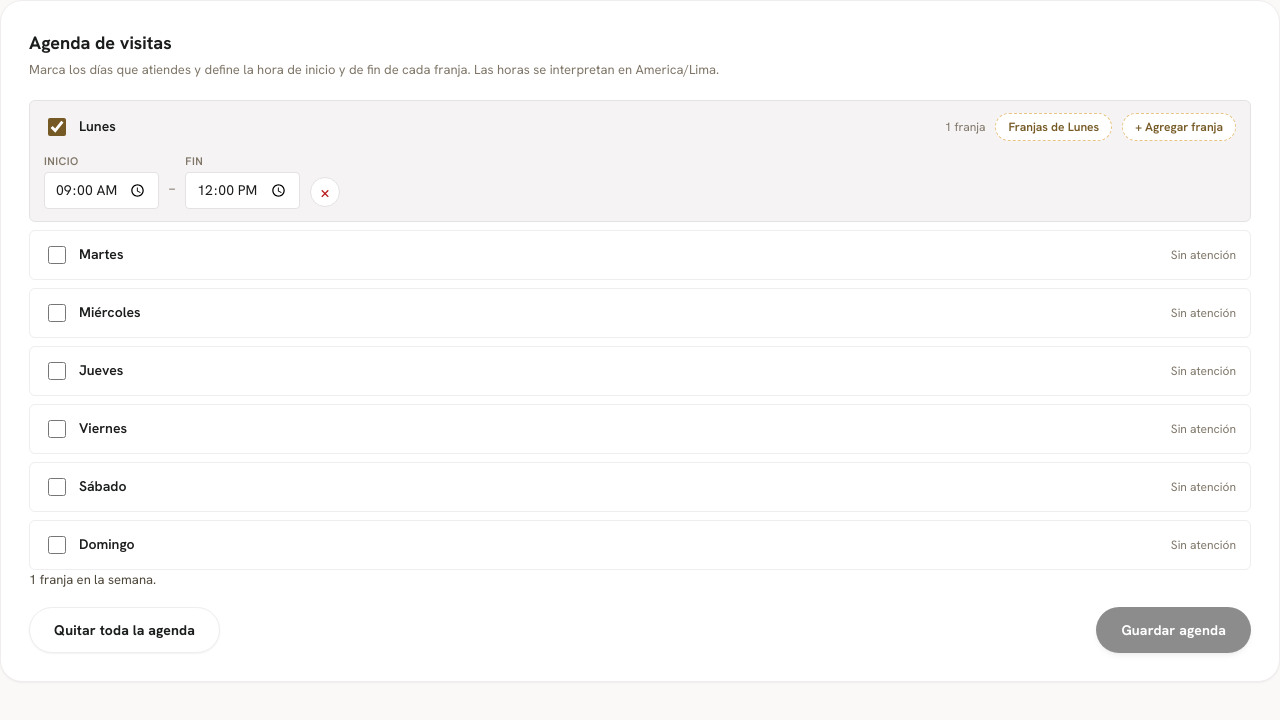
Test: ScheduleManager › Envío de la agenda › permite vaciar la semana completa enviando solo `days: []`
The image size is (1280, 720).
Click the button "Quitar toda la agenda" at [125, 630], box [29,607,220,653]
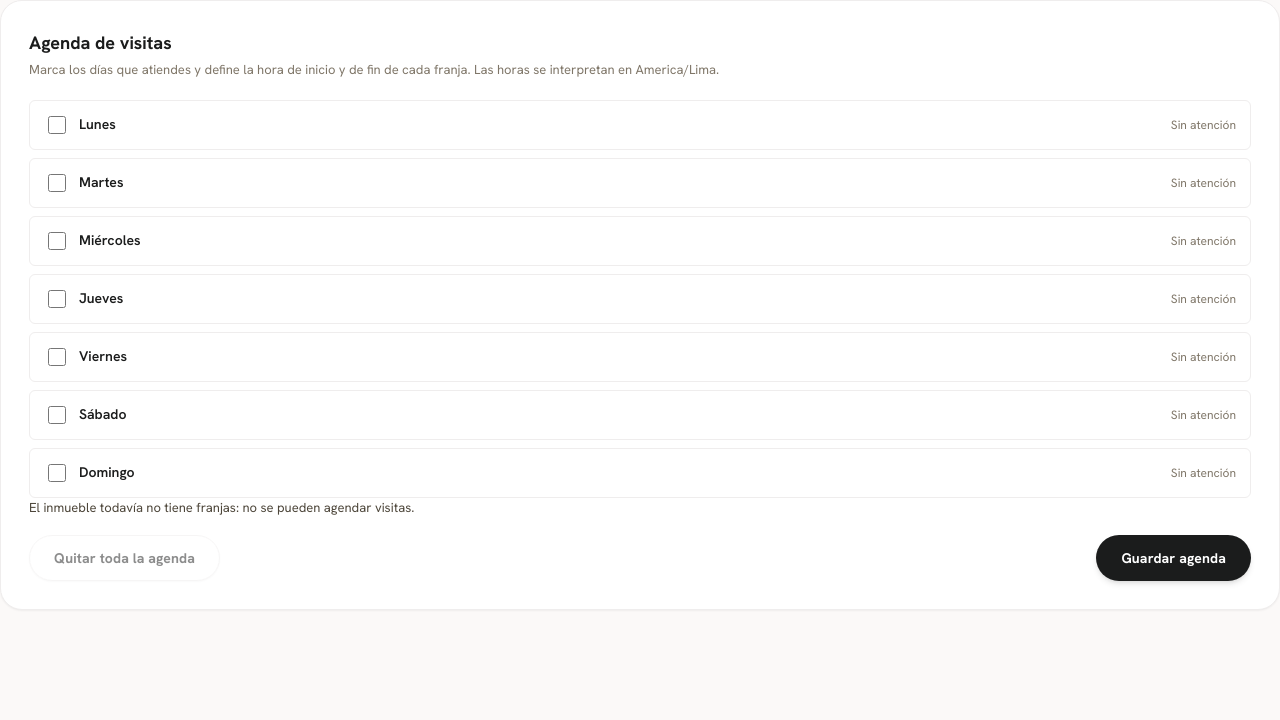
Click the button "Guardar agenda" at [1174, 558], box [1096,535,1251,581]
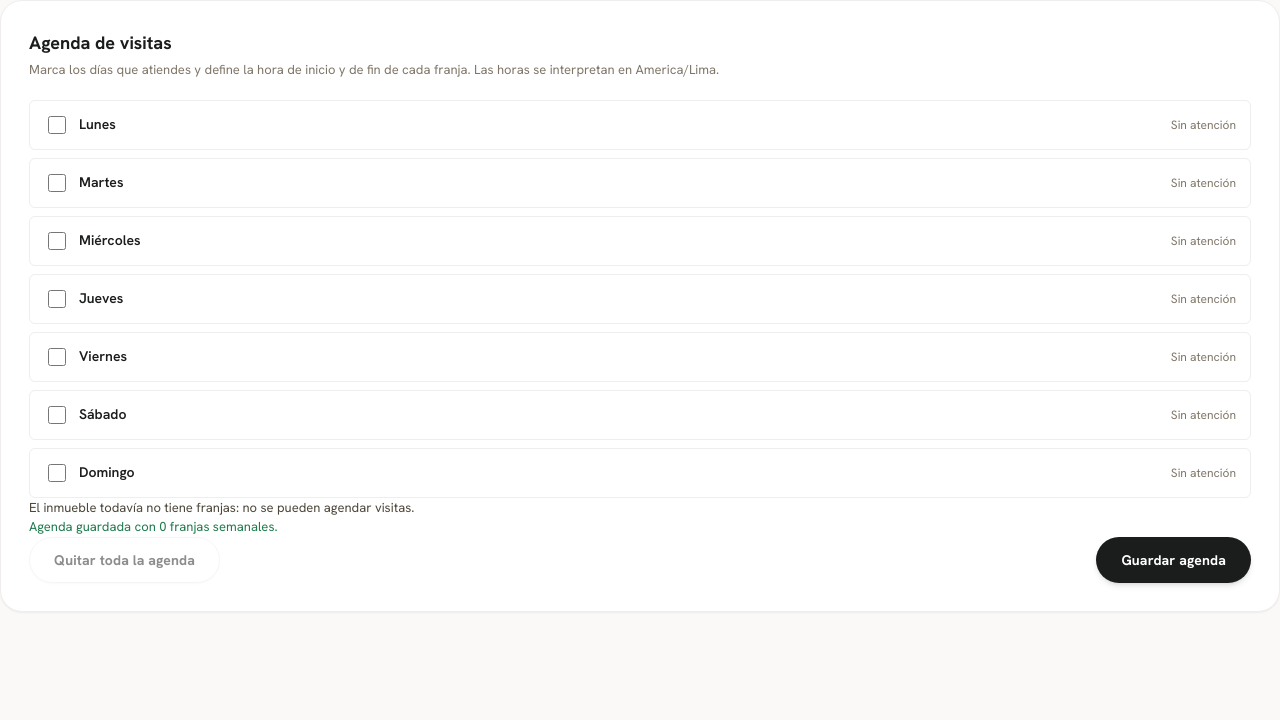
Expected: the text "Agenda guardada con 0 franjas semanales." is shown, [29,518,278,535]
